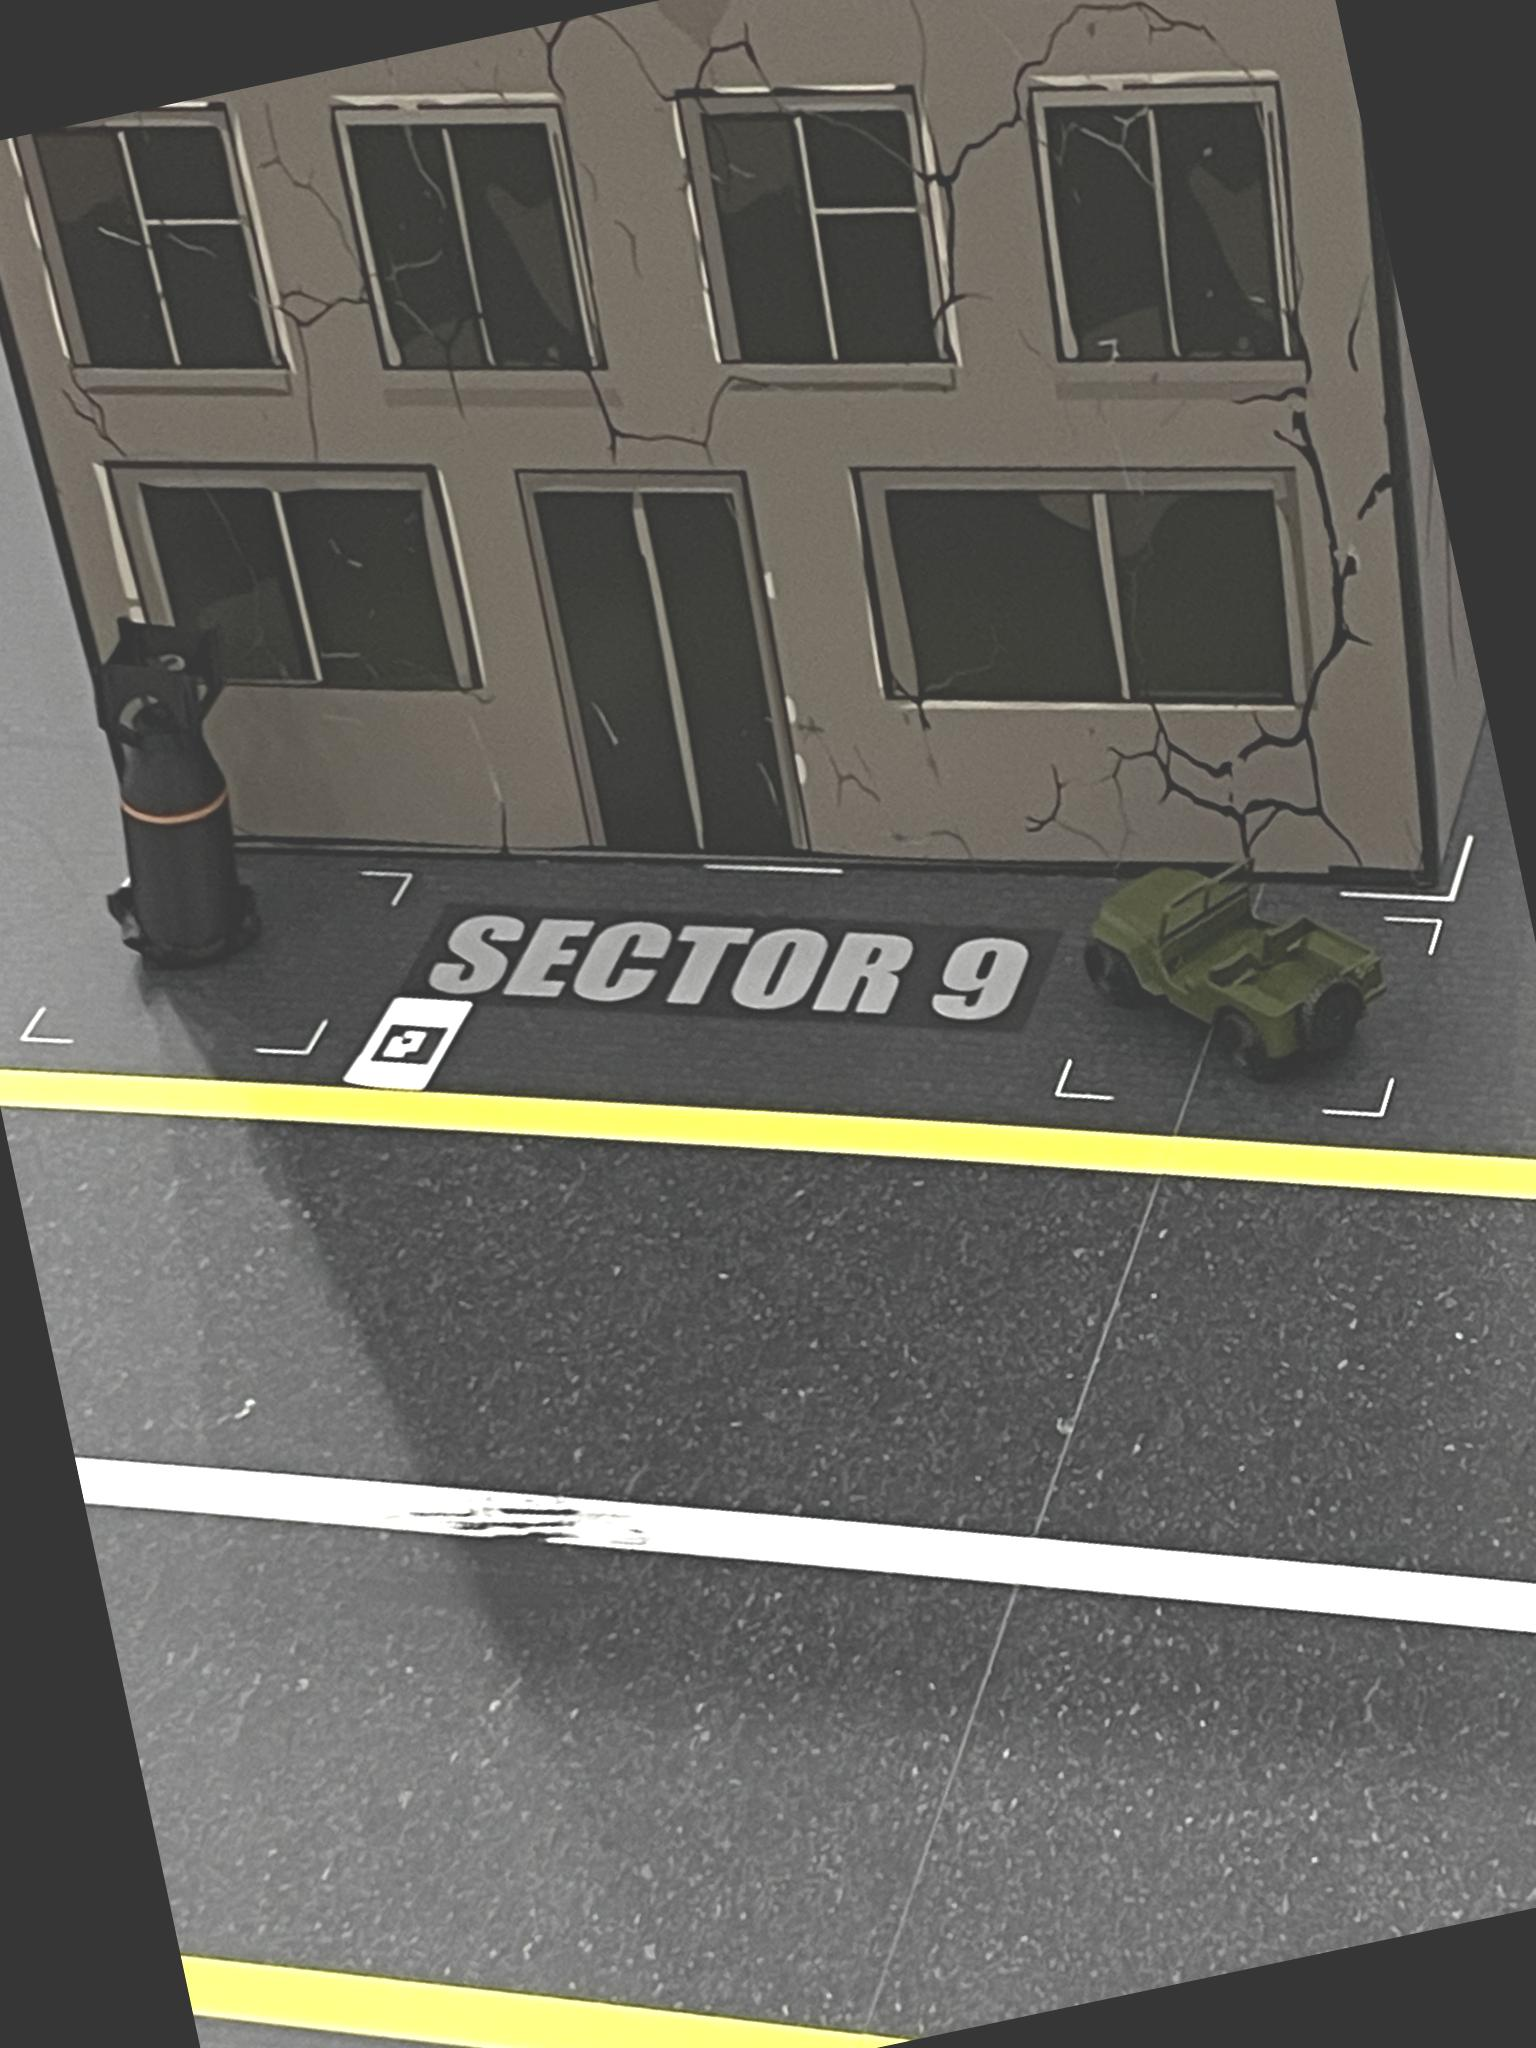Car: (1062, 808, 1407, 1143)
Missile: (45, 585, 297, 997)
